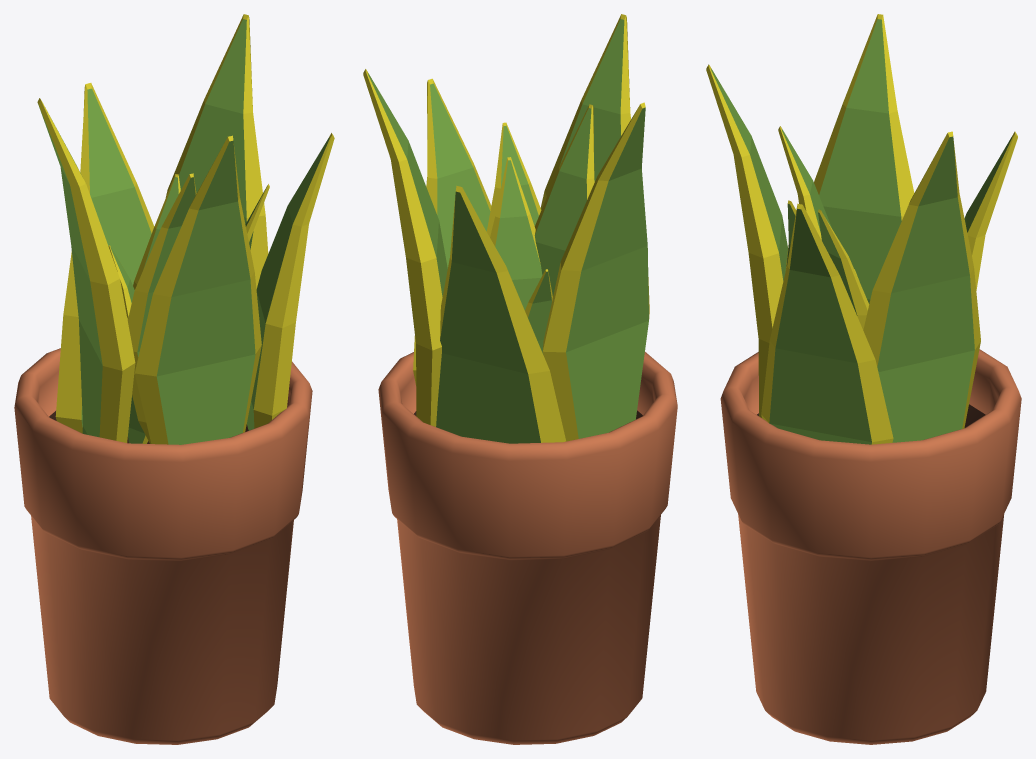
Rendered from plant 1.glb.
3 views of the same model, side by side, from view 1: azimuth 30°, elevation 25°; view 2: azimuth 150°, elevation 25°; view 3: azimuth 270°, elevation 25° (orthographic).
Parts seen in each view (by area): view 1: Cylinder, Cube.016, Cube.013, Cube, Cube.015, Cube.014, Cube.011, Cube.009, Cube.010; view 2: Cylinder, Cube.013, Cube, Cube.014, Cube.015, Cube.011, Cube.016, Cube.008, Cube.012, Cube.010; view 3: Cylinder, Cube.014, Cube.015, Cube.013, Cube.016, Cube, Cube.008, Cube.011.
Boxes of the visible parts, box(x1,y1,x2,y2) form: Cylinder: box(14, 348, 312, 744); Cube.016: box(134, 135, 261, 444); Cube.013: box(37, 98, 135, 442); Cube: box(55, 83, 154, 433); Cube.015: box(247, 133, 334, 430); Cube.014: box(165, 14, 268, 289); Cube.011: box(127, 173, 196, 443); Cube.009: box(133, 174, 180, 289); Cube.010: box(108, 245, 134, 318); Cylinder: box(378, 352, 677, 744); Cube.013: box(542, 102, 649, 441); Cube: box(436, 185, 566, 443); Cube.014: box(363, 69, 447, 426); Cube.015: box(413, 78, 491, 385); Cube.011: box(534, 104, 594, 296); Cube.016: box(540, 14, 630, 209); Cube.008: box(490, 157, 542, 310); Cube.012: box(486, 122, 541, 236); Cube.010: box(525, 269, 552, 354); Cylinder: box(720, 349, 1021, 744); Cube.014: box(863, 131, 980, 442); Cube.015: box(761, 203, 893, 444); Cube.013: box(814, 14, 914, 303); Cube.016: box(706, 64, 787, 417); Cube: box(964, 131, 1017, 290); Cube.008: box(818, 209, 869, 329); Cube.011: box(778, 126, 831, 239).
Bounding box in the file's own units: 2.14 × 4.86 × 2.2.
